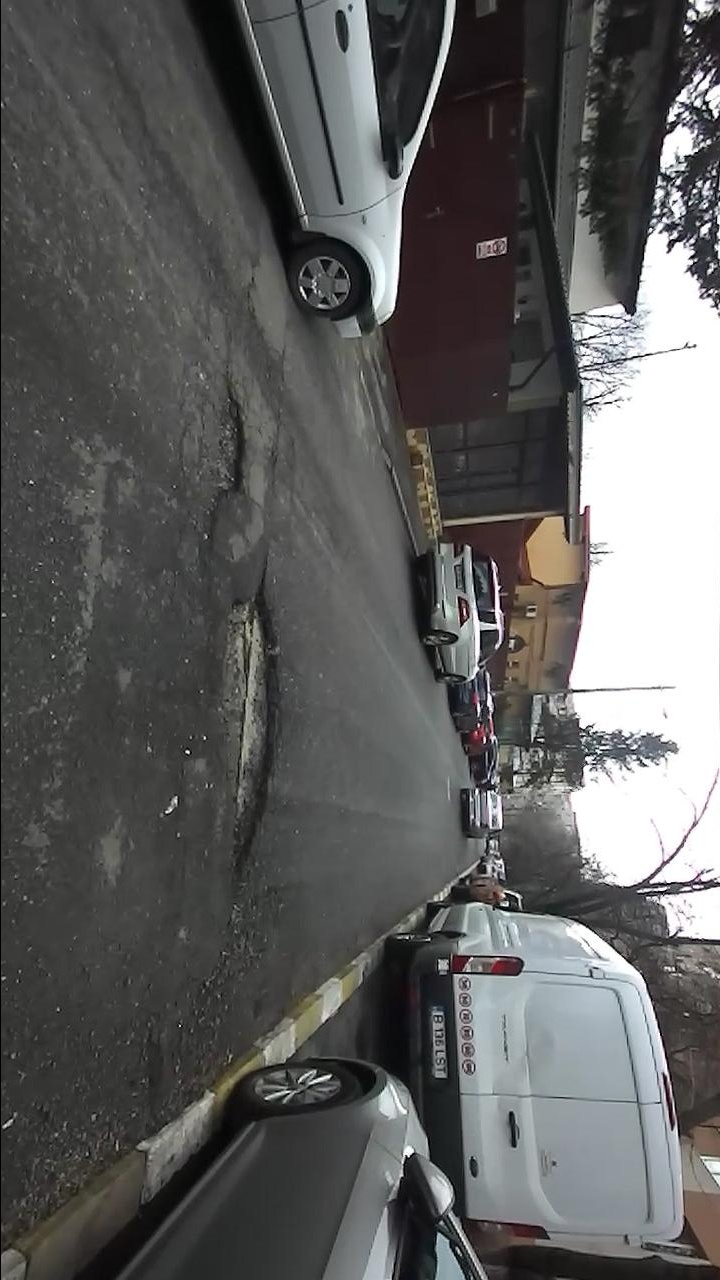pothole: (213, 559, 290, 896), (207, 381, 251, 530)
